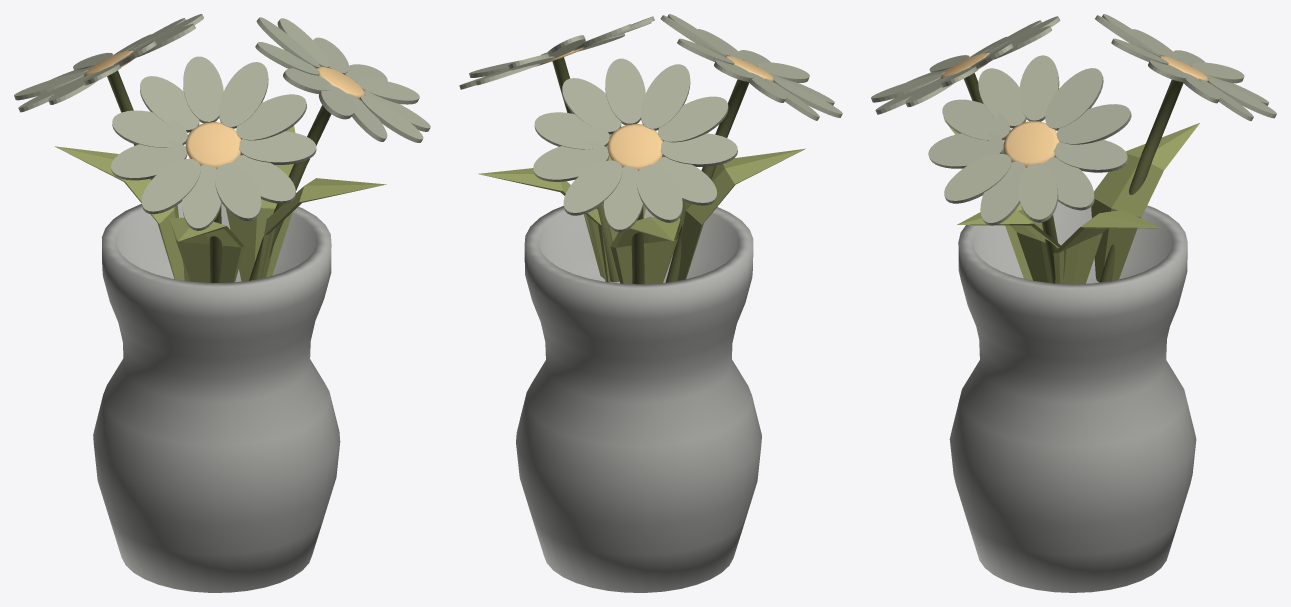
File: Assets.fbx_Vase_Withe.fbx
3 renders of one model, left to right at view 1: azimuth 30°, elevation 25°; view 2: azimuth 150°, elevation 25°; view 3: azimuth 270°, elevation 25°, orthographic.
Visible parts, largest first — view 1: Cylinder, Blume.001, Blume.002, Blume, Blatt.003, Blatt, Blatt.001, Blatt.002; view 2: Cylinder, Blume, Blume.001, Blume.002, Blatt.003, Blatt.002, Blatt; view 3: Cylinder, Blume.002, Blume, Blatt.002, Blume.001, Blatt, Blatt.001, Blatt.003.
Part boxes in pixels (x1,y1,x2,y2): Cylinder: [93, 201, 340, 592]; Blume.001: [111, 56, 316, 282]; Blume.002: [249, 17, 430, 280]; Blume: [14, 14, 203, 281]; Blatt.003: [169, 217, 244, 282]; Blatt: [226, 126, 295, 281]; Blatt.001: [256, 178, 386, 279]; Blatt.002: [54, 146, 184, 280]; Cylinder: [516, 206, 761, 592]; Blume: [533, 58, 737, 284]; Blume.001: [660, 14, 842, 282]; Blume.002: [459, 16, 654, 282]; Blatt.003: [677, 148, 805, 280]; Blatt.002: [610, 216, 680, 284]; Blatt: [478, 168, 610, 282]; Cylinder: [949, 201, 1196, 592]; Blume.002: [928, 55, 1131, 283]; Blume: [1095, 14, 1276, 282]; Blatt.002: [1091, 123, 1199, 282]; Blume.001: [871, 16, 1060, 154]; Blatt: [1053, 209, 1160, 284]; Blatt.001: [957, 210, 1066, 283]; Blatt.003: [944, 120, 1043, 280].
Bounding box in the file's own units: 15.33 × 22.91 × 16.51.
